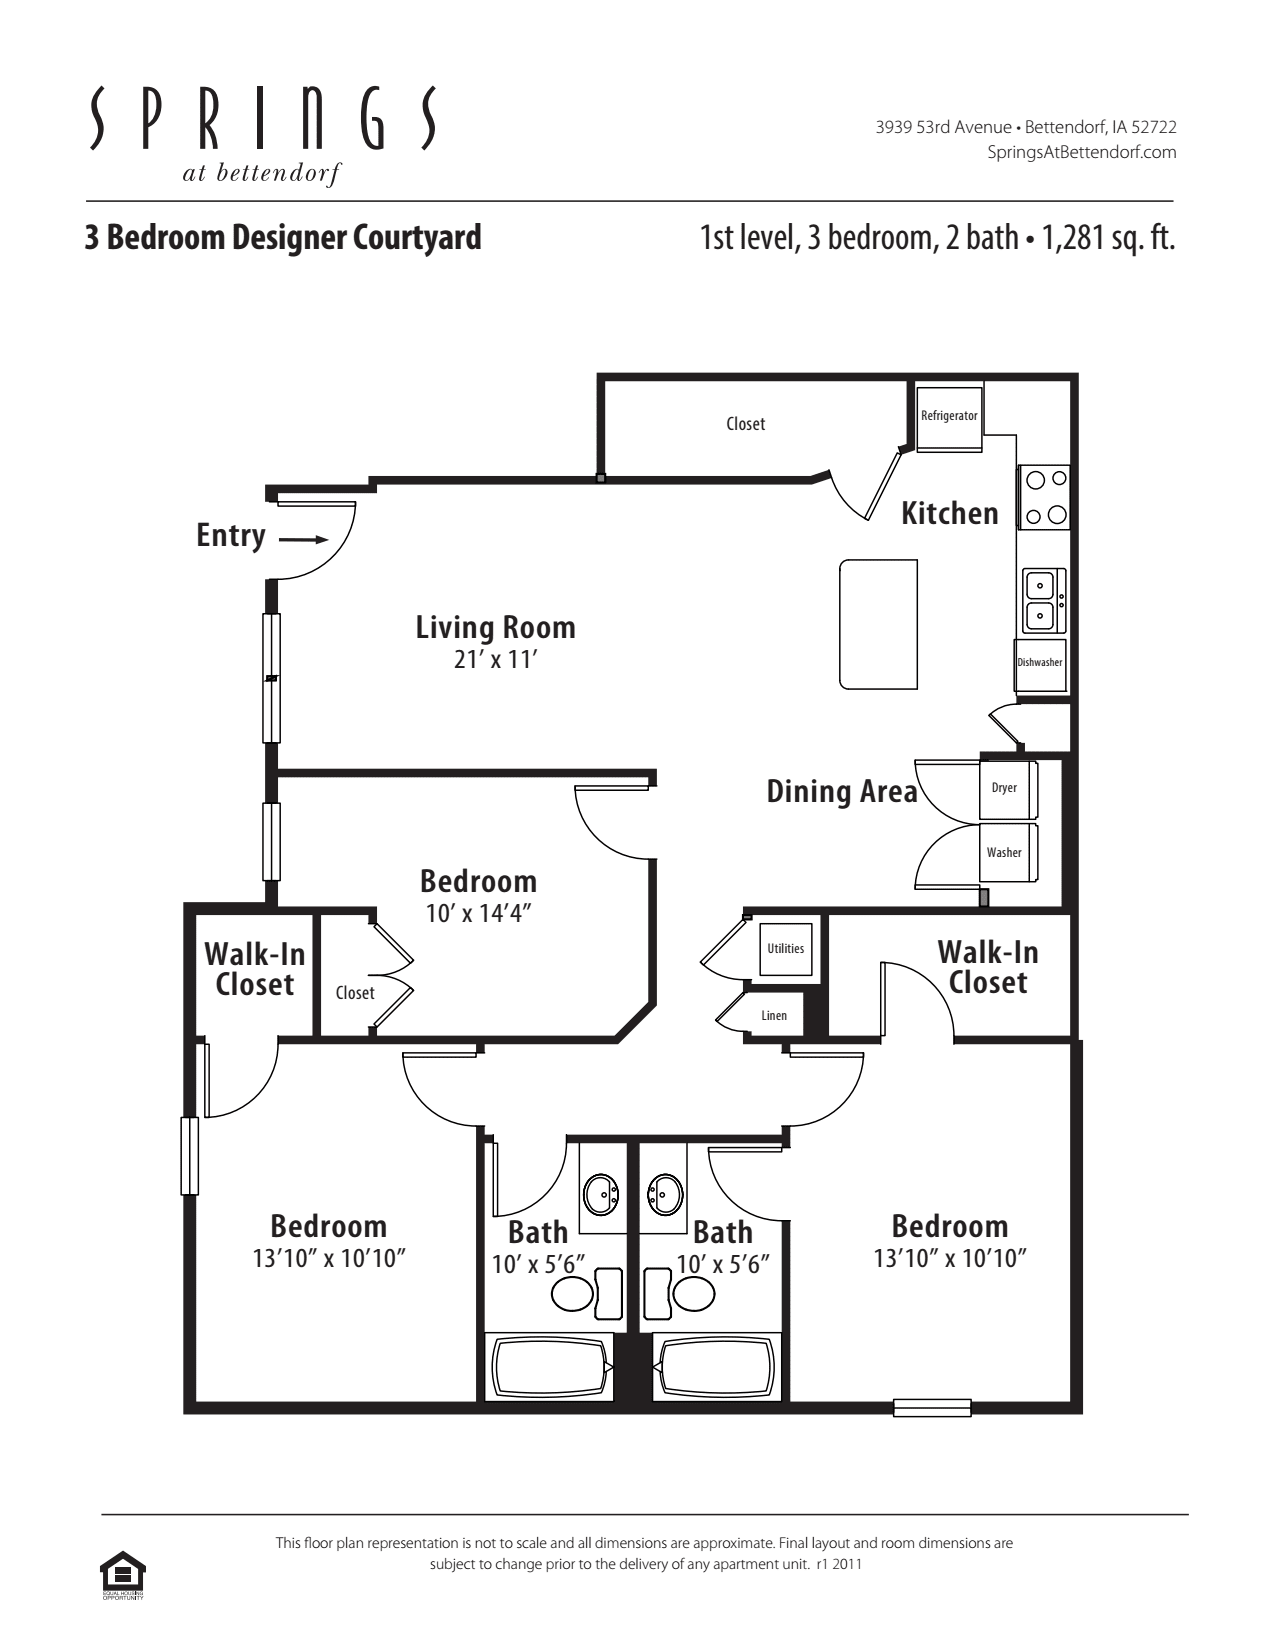door: (907, 750, 972, 895), (396, 1045, 470, 1137), (876, 950, 950, 1041), (287, 500, 368, 579), (702, 1142, 781, 1221), (565, 783, 642, 865), (794, 1049, 867, 1133), (200, 1049, 284, 1121), (487, 1150, 567, 1217), (370, 924, 417, 1021), (836, 463, 899, 526), (698, 911, 741, 987), (710, 988, 743, 1046), (979, 703, 1012, 741)
